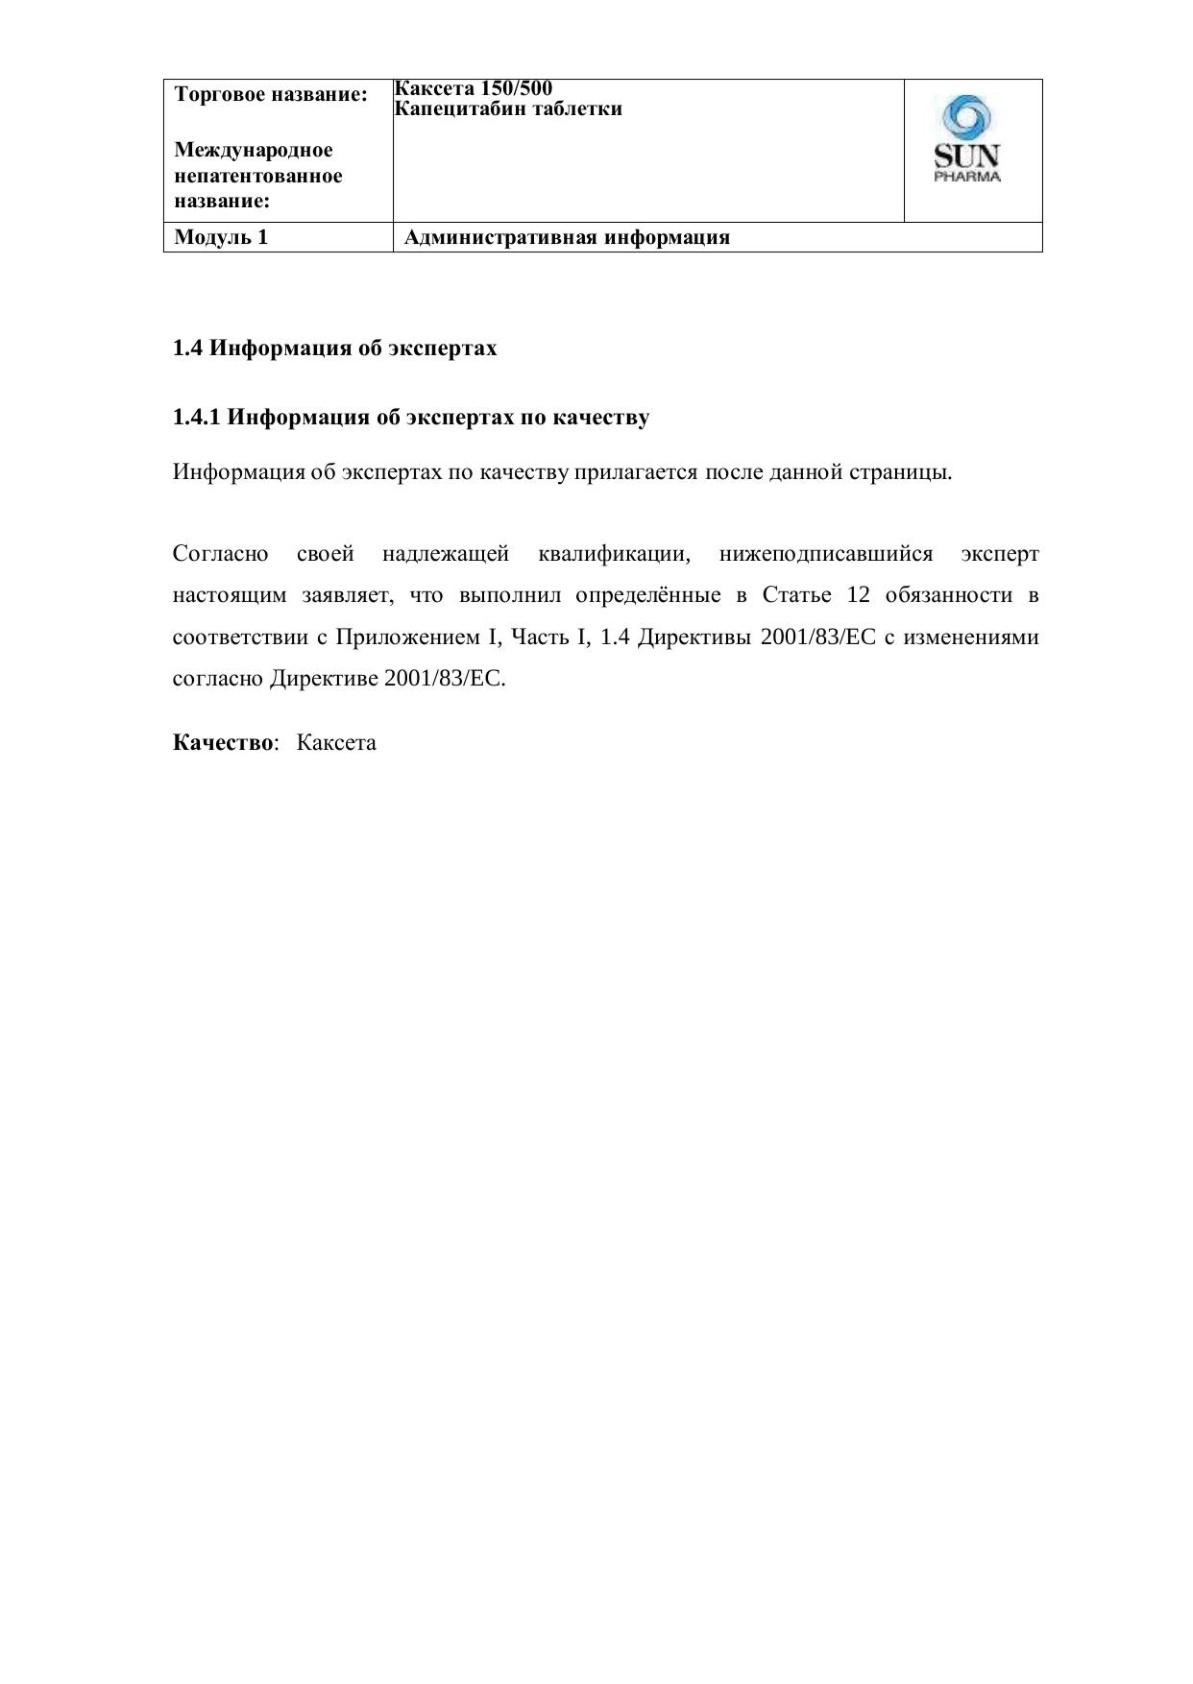merged_cells: (163, 77, 1045, 254)
